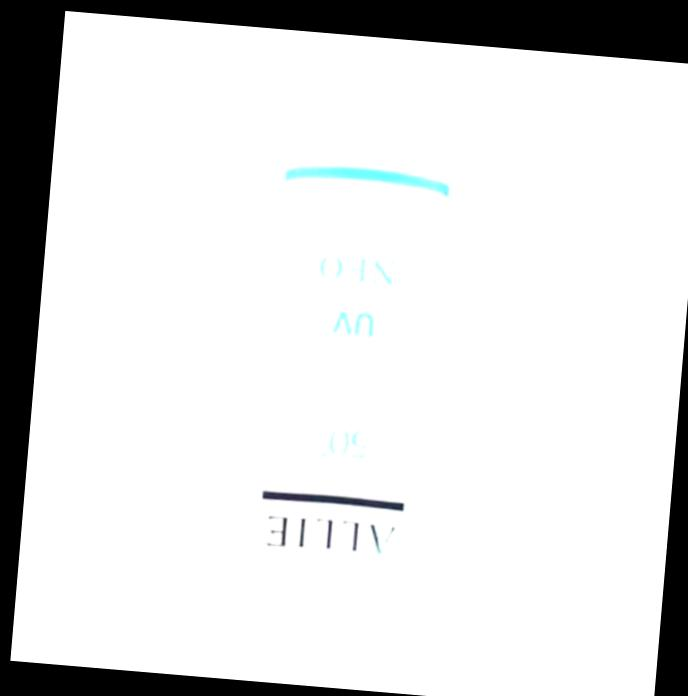cosmetic: (210, 68, 491, 660)
